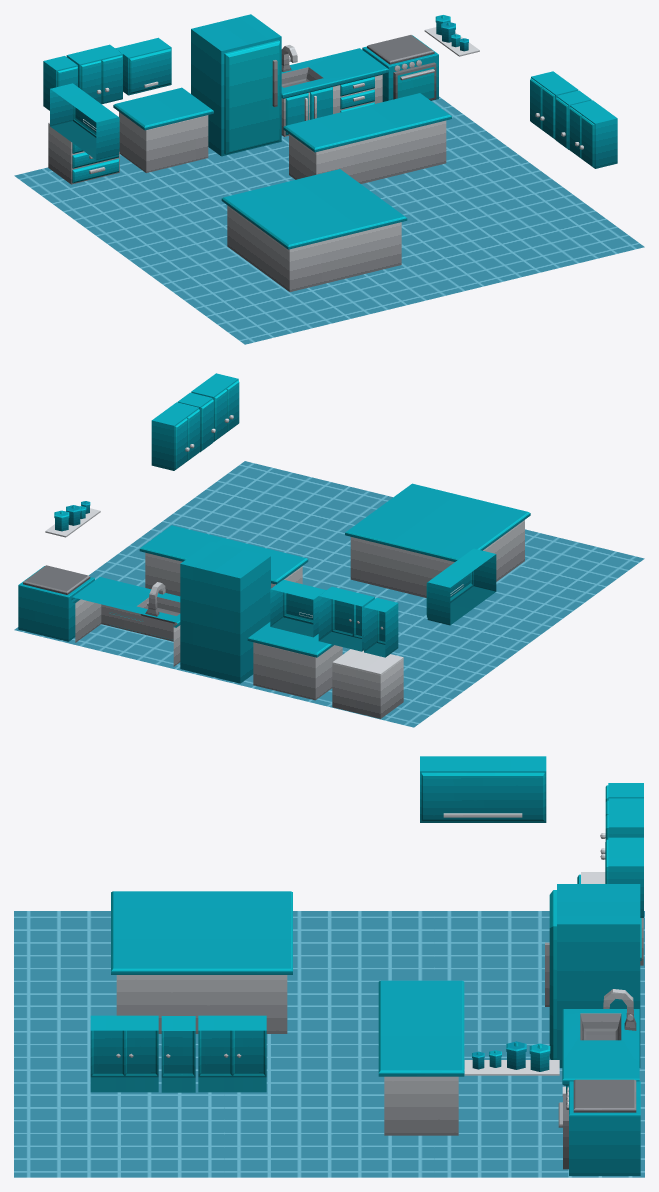
File: s1_Kitchen_v1.fbx
3 renders of one model, top to bottom at view 1: azimuth 30°, elevation 25°; view 2: azimuth 150°, elevation 25°; view 3: azimuth 270°, elevation 25°, orthographic. The views are drawn at different scales.
Visible parts, largest first — view 1: s1_Kitchen_v1; view 2: s1_Kitchen_v1; view 3: s1_Kitchen_v1.
Part boxes in pixels (x1,y1,x2,y2): s1_Kitchen_v1: [14, 14, 644, 344]; s1_Kitchen_v1: [14, 373, 644, 727]; s1_Kitchen_v1: [14, 756, 644, 1177].
Bounding box in the file's own units: 902 × 244 × 900.
